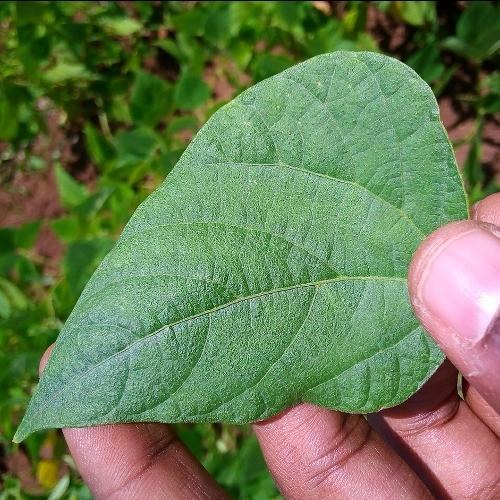sehat: (160, 191, 401, 388)
